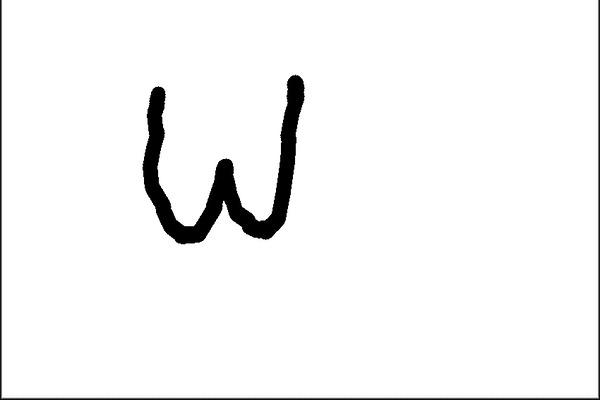w: (132, 69, 313, 248)
